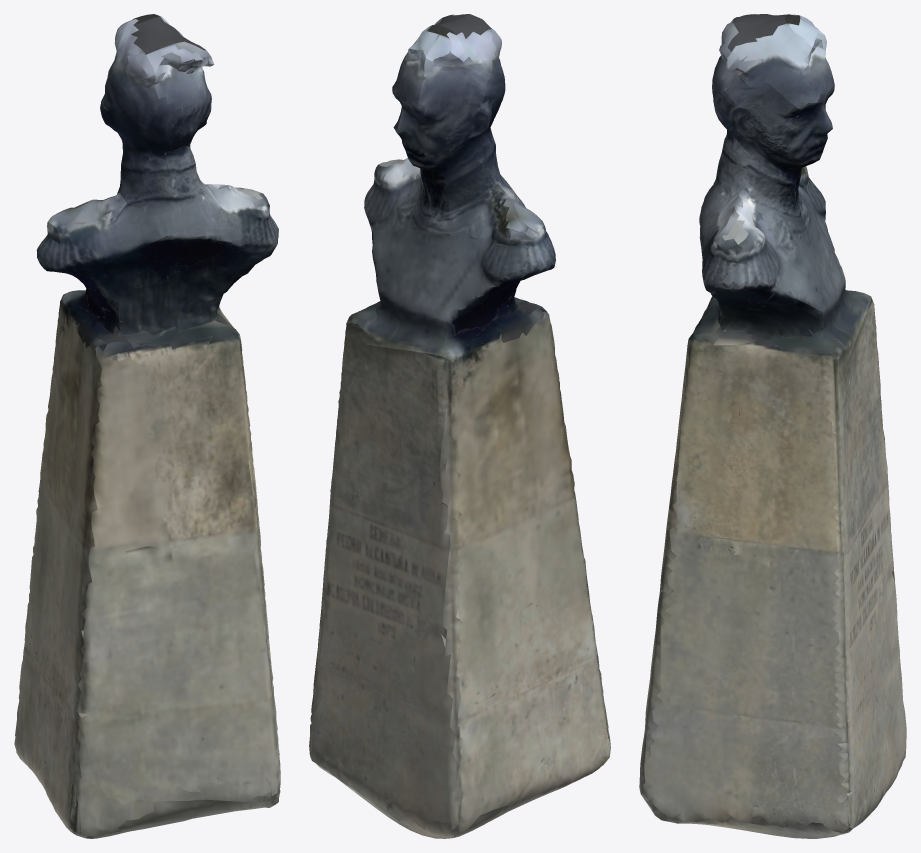
The model's file is M04_PedroAlcantaraHerran.glb.
The picture shows the model from 3 angles, left to right: view 1: azimuth 30°, elevation 25°; view 2: azimuth 150°, elevation 25°; view 3: azimuth 270°, elevation 25°; orthographic projection. The views are drawn at different scales.
Parts seen in each view (by area): view 1: modelo; view 2: modelo; view 3: modelo.
Boxes of the visible parts, x1,y1,x2,y2 form: modelo: (14,14,280,838); modelo: (309,14,610,838); modelo: (639,14,906,838).
Bounding box in the file's own units: 0.8925 × 2.93 × 0.8768.
1 material, 1 textured.
